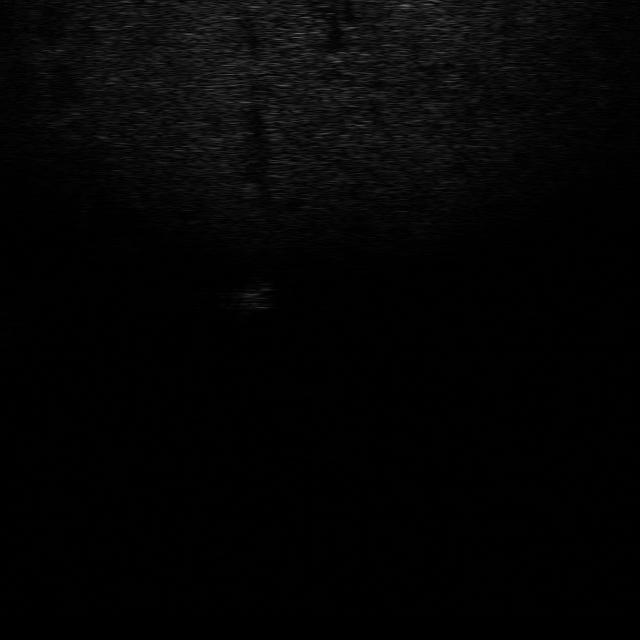human body: (234, 276, 274, 318)
